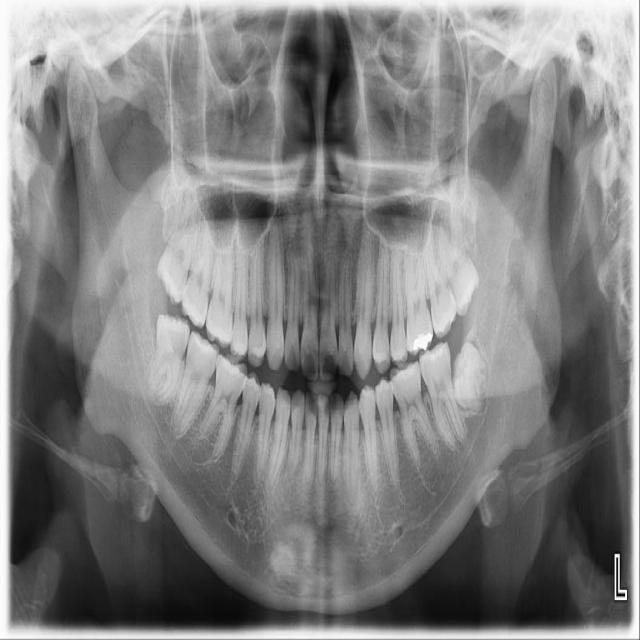Filling: (414, 330, 434, 353)
impacted tooth: (146, 313, 189, 403), (452, 343, 490, 411)
